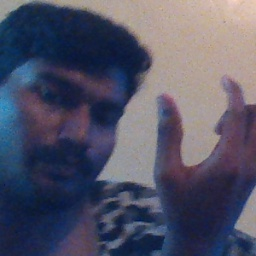U: (150, 65, 256, 218)
